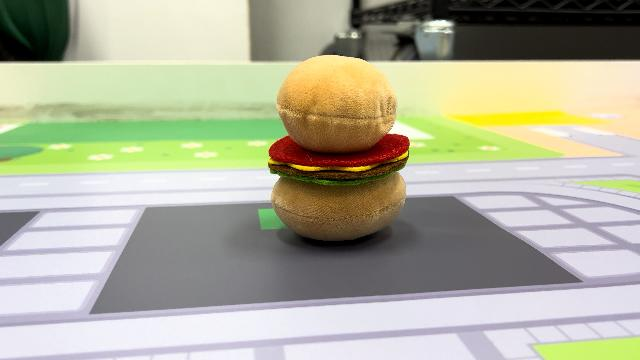burger: (264, 52, 414, 244)
